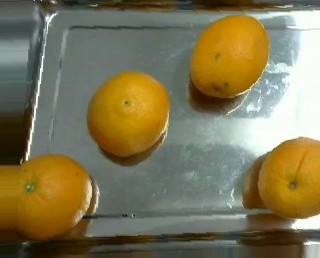Orange: (86, 70, 170, 156), (190, 14, 271, 97), (17, 154, 92, 237), (258, 136, 320, 218)
